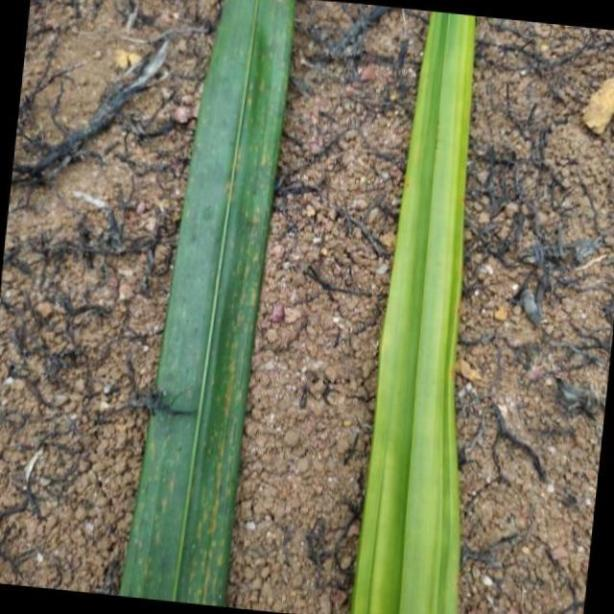nitrogen: (112, 0, 294, 614), (345, 0, 475, 614)
